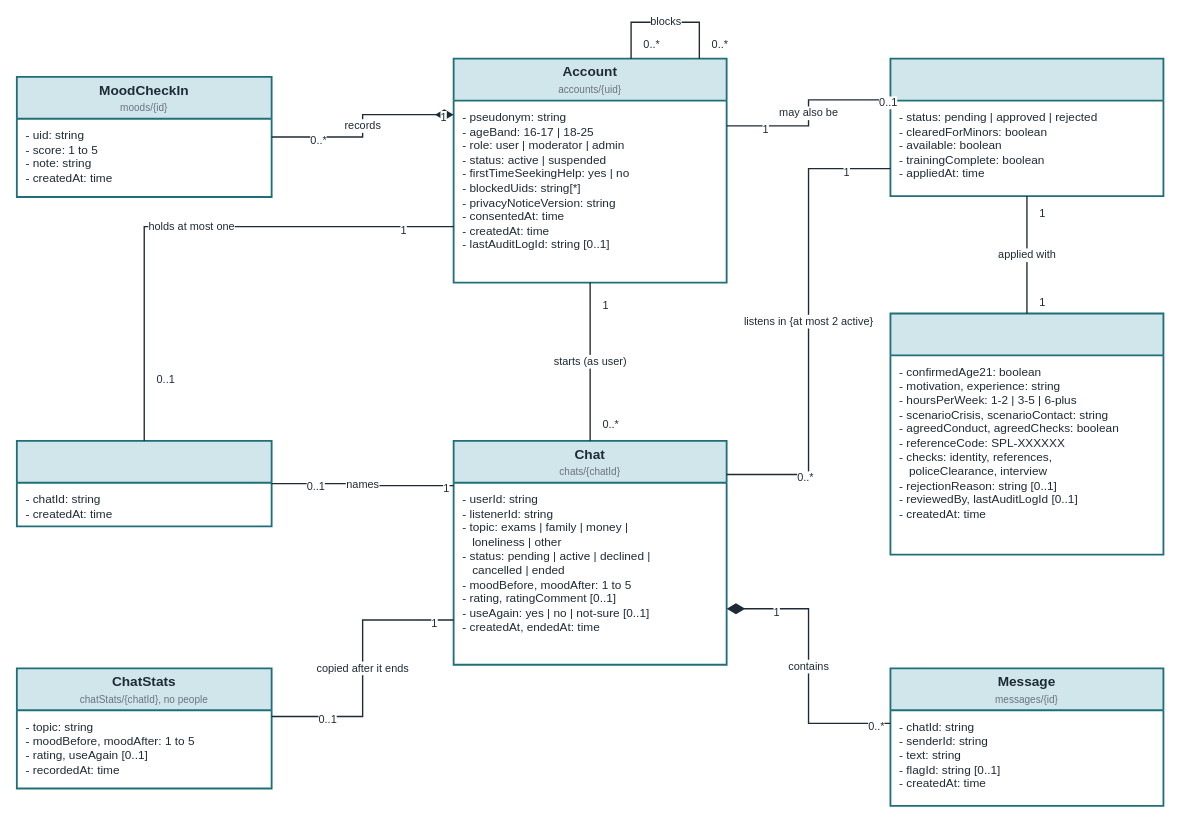
Image size: 1179x822. Some labels were removed from this diagram. Each missing label, with the box of its shape:
Listener listeners/{uid}: (889, 57, 1164, 197)
ListenerApplication listenerApplications/{uid}: (889, 312, 1164, 555)
PendingChat pendingChats/{uid}: (15, 440, 272, 527)
